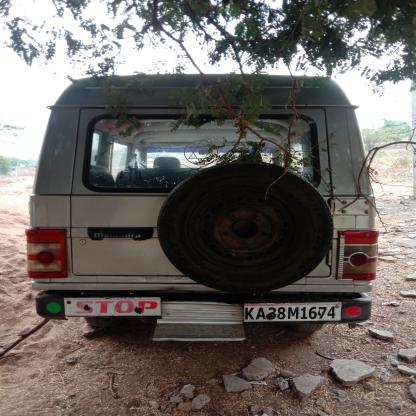Number_Plate_Detected: (241, 302, 347, 324)
